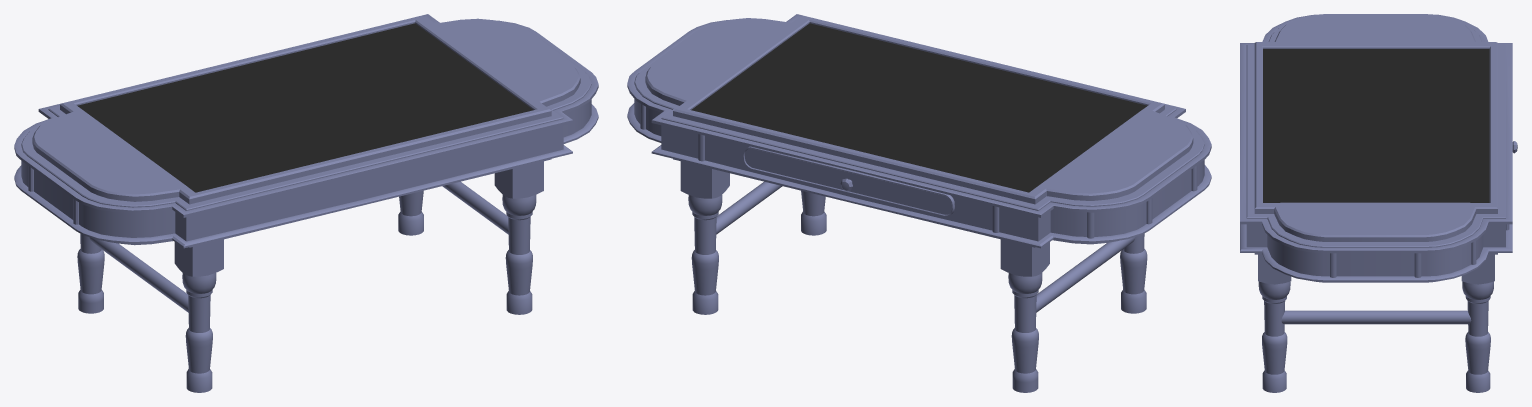
File: TableUnwrappedNew.fbx
The picture shows the model from 3 angles, left to right: view 1: azimuth 30°, elevation 25°; view 2: azimuth 150°, elevation 25°; view 3: azimuth 270°, elevation 25°; orthographic projection. The views are drawn at different scales.
Parts seen in each view (by area): view 1: TableTop_low, Object, Cylinder010, Cylinder011, TableLeg_low, Cylinder009, Box002, Box004, Cylinder012, Cylinder013; view 2: TableTop_low, Object, Cylinder014, Cylinder013, TableLeg_low, Cylinder010, Cylinder009, Box001, Box003, Cylinder012, Cylinder011; view 3: Object, TableTop_low, Cylinder012, Cylinder013, Cylinder011, Box003, Box004.
Part boxes in pixels (box(x1,y1,x2,y2)): TableTop_low: box(14, 14, 598, 248); Object: box(77, 23, 533, 192); Cylinder010: box(182, 273, 216, 392); Cylinder011: box(502, 195, 536, 314); TableLeg_low: box(77, 233, 104, 313); Cylinder009: box(89, 237, 188, 312); Box002: box(174, 239, 223, 276); Box004: box(494, 161, 543, 198); Cylinder012: box(442, 181, 508, 234); Cylinder013: box(398, 190, 423, 235); TableTop_low: box(627, 14, 1211, 248); Object: box(691, 23, 1147, 192); Cylinder014: box(743, 146, 954, 216); Cylinder013: box(688, 195, 722, 314); TableLeg_low: box(1008, 273, 1042, 392); Cylinder010: box(1120, 233, 1147, 313); Cylinder009: box(1036, 237, 1135, 312); Box001: box(1000, 239, 1049, 276); Box003: box(680, 161, 729, 198); Cylinder012: box(716, 181, 782, 234); Cylinder011: box(801, 190, 826, 235); Object: box(1263, 49, 1489, 202); TableTop_low: box(1240, 14, 1512, 282); Cylinder012: box(1281, 310, 1471, 324); Cylinder013: box(1462, 281, 1493, 392); Cylinder011: box(1258, 281, 1290, 392); Box003: box(1461, 254, 1494, 284); Box004: box(1258, 254, 1291, 284).
Bounding box in the file's own units: 1930 × 724 × 959.
